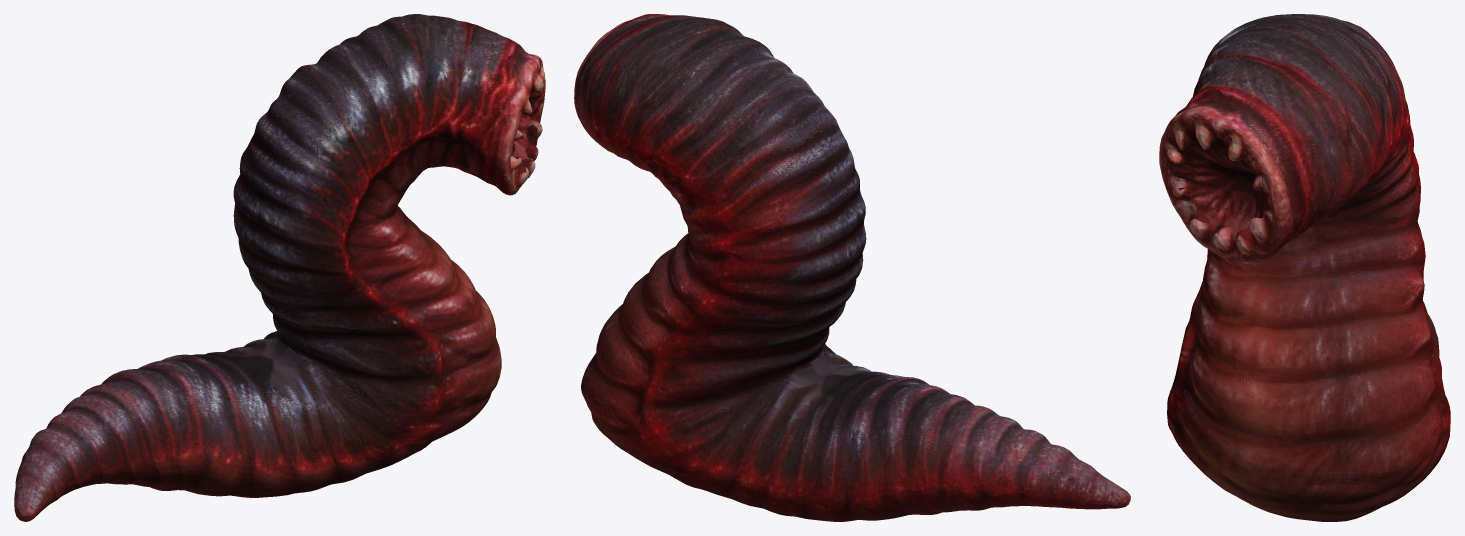
The model's file is blood_leech.glb.
The picture shows the model from 3 angles, left to right: view 1: azimuth 30°, elevation 25°; view 2: azimuth 150°, elevation 25°; view 3: azimuth 270°, elevation 25°; orthographic projection. The views are drawn at different scales.
Visible parts, largest first — view 1: temp_mesh.ply; view 2: temp_mesh.ply; view 3: temp_mesh.ply.
Boxes of the visible parts, <box> form: temp_mesh.ply: <box>14,14,545,521</box>; temp_mesh.ply: <box>574,14,1130,521</box>; temp_mesh.ply: <box>1159,14,1450,521</box>.
Bounding box in the file's own units: 1.97 × 1.48 × 0.7902.
1 material, 1 textured.
